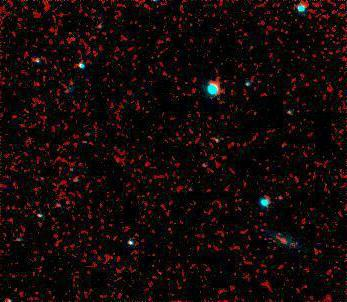star: (56, 72, 86, 102)
